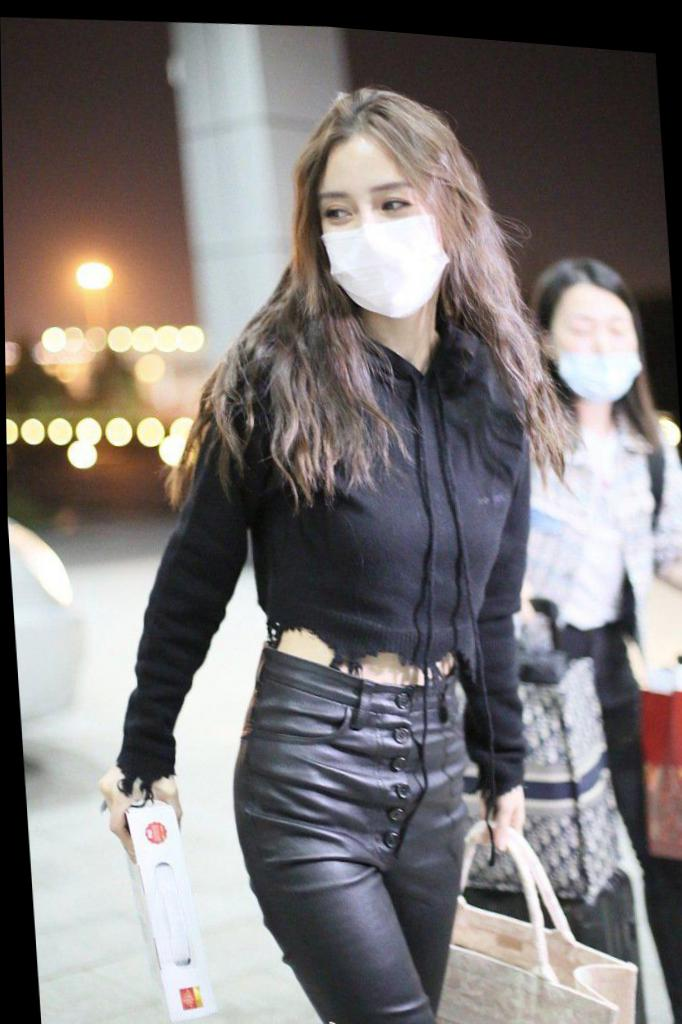OK: (316, 149, 447, 318)
WRONG: (546, 288, 644, 397)
